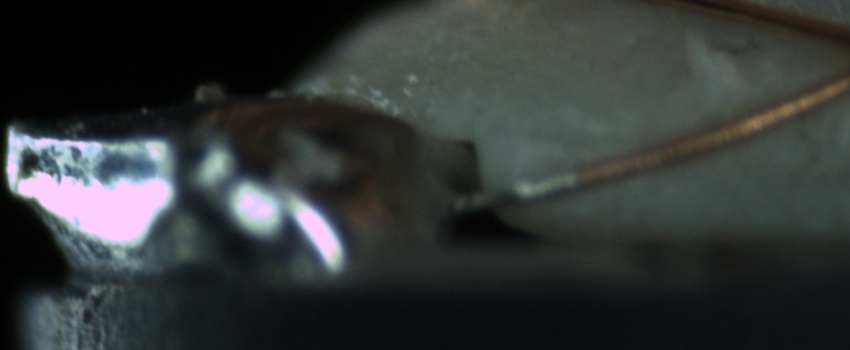DL: (510, 109, 645, 166)
TS: (450, 166, 578, 216)
TTCW: (448, 154, 606, 216)
